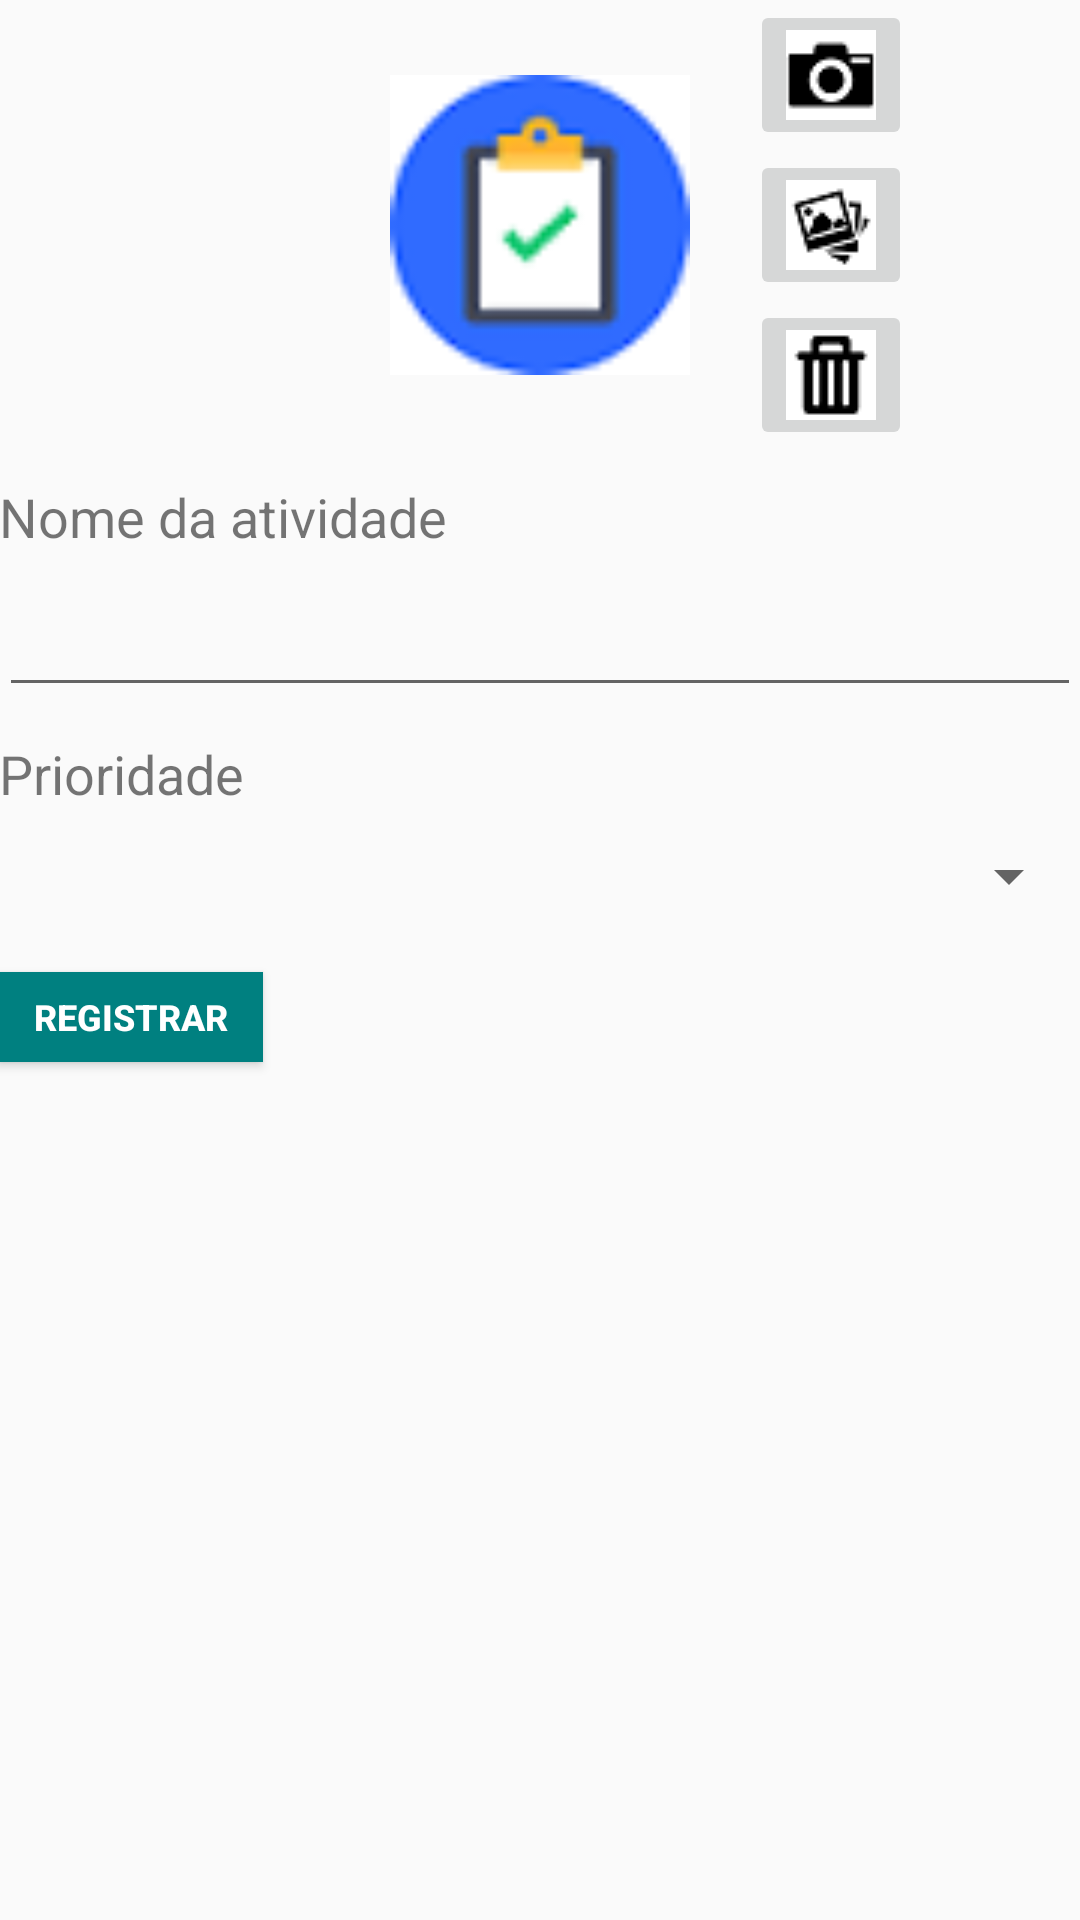

Where to tap for icons on this 1080w x 1920h app screen, as (x=x, y=y):
camera: (x=831, y=75)
galeria: (x=831, y=225)
lixeira: (x=831, y=375)
